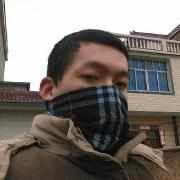OK: (59, 56, 129, 130)
